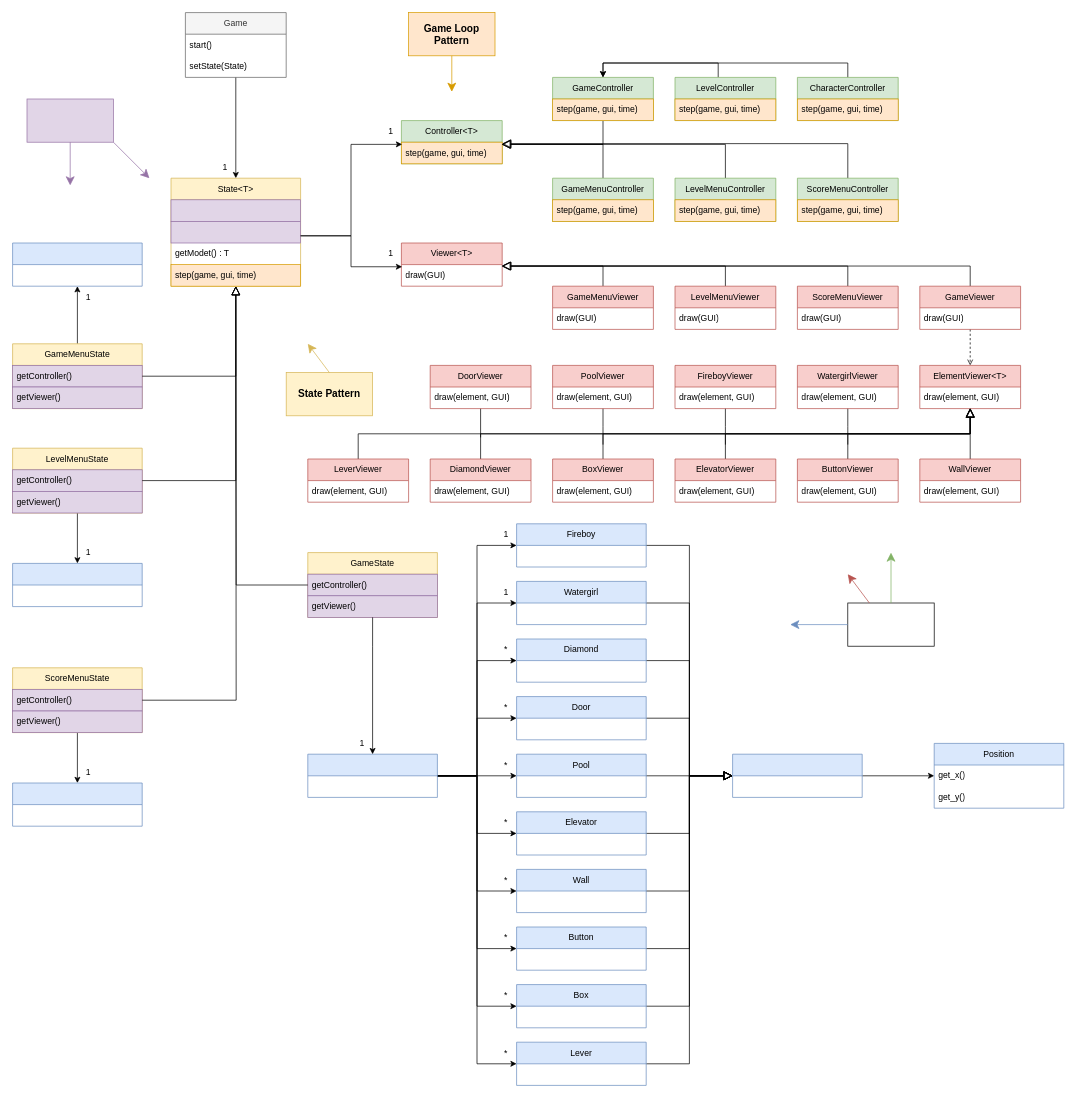
This 1076x1098 diagram has some shape labels left out. Here are the shapes that lost their labels. From the top down, the centre of each, then its label:
pixel 69 120: Factory Pattern
pixel 235 210: getController() : Controller<T>
pixel 235 232: getViewer() : Viewer<T>
pixel 77 264: GameMenu
pixel 77 585: LevelMenu
pixel 890 624: MVC Architectural Pattern
pixel 372 775: Level
pixel 797 775: Element
pixel 77 804: ScoreMenu
